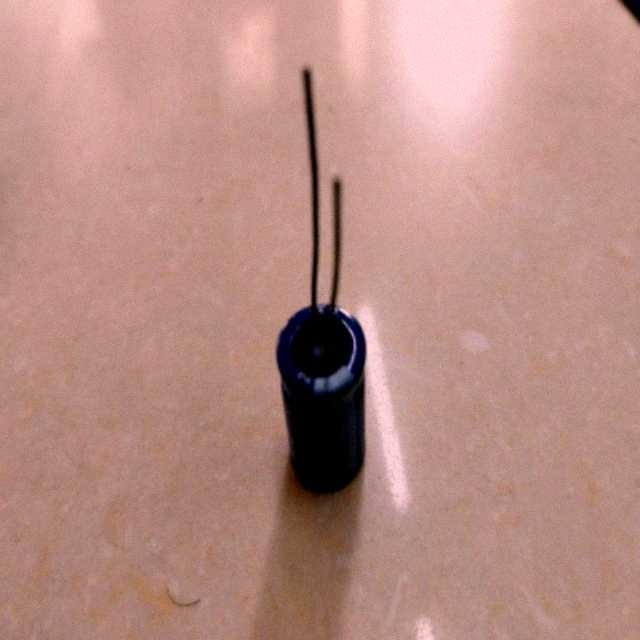capacitor: (275, 303, 367, 495)
